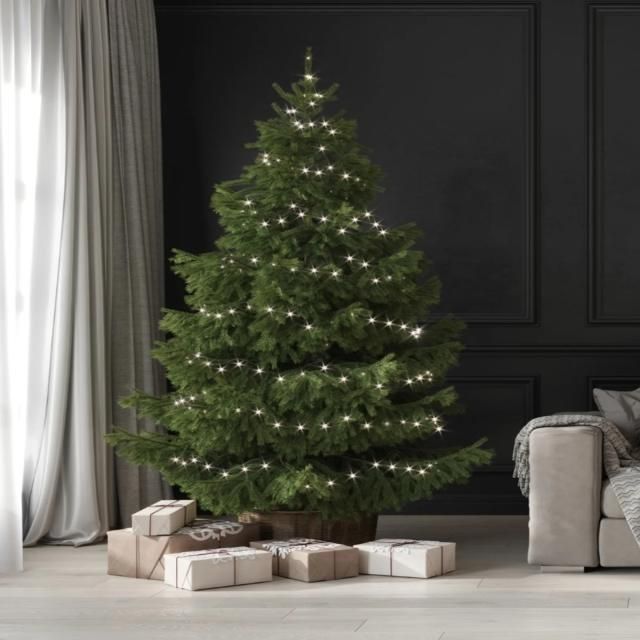Christmas-tree: (144, 38, 488, 506)
